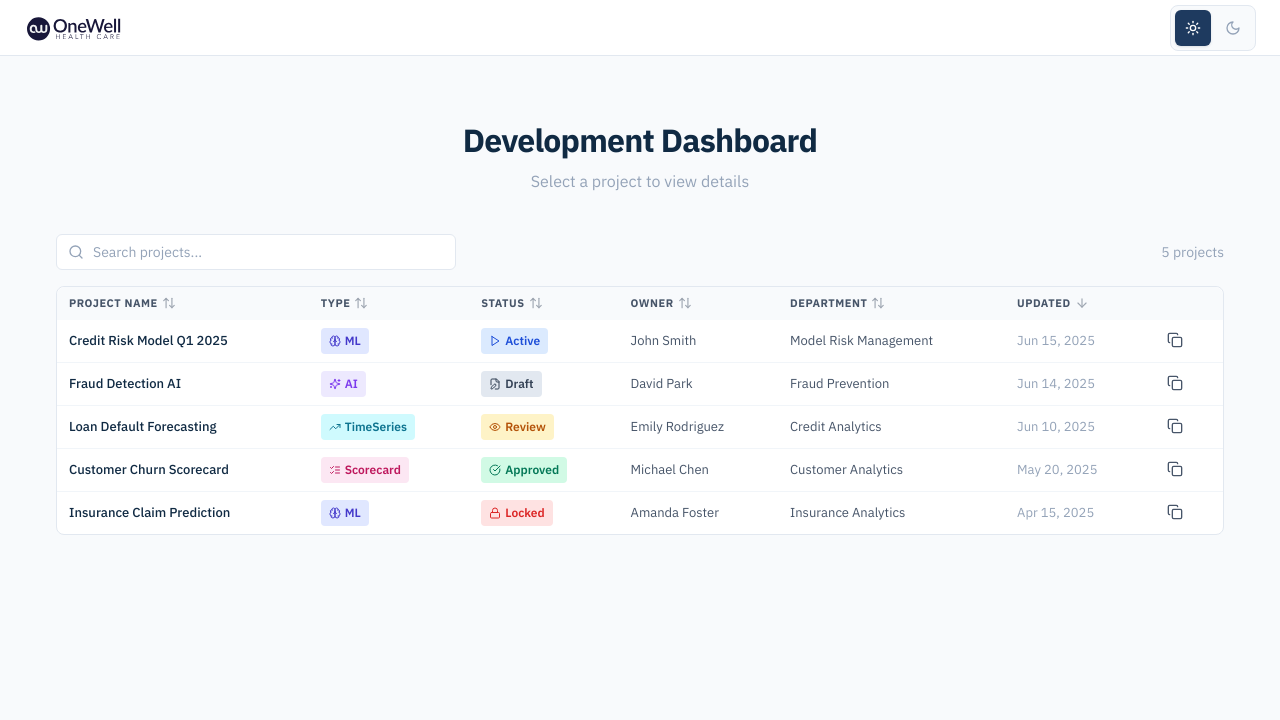
Scenario: Project Selector › Search Functionality › should show empty state when no results match
The width and height of the screenshot is (1280, 720).
In the field with placeholder "Search projects...": point(256, 252) [56,234,456,270], type "xyznonexistent123"
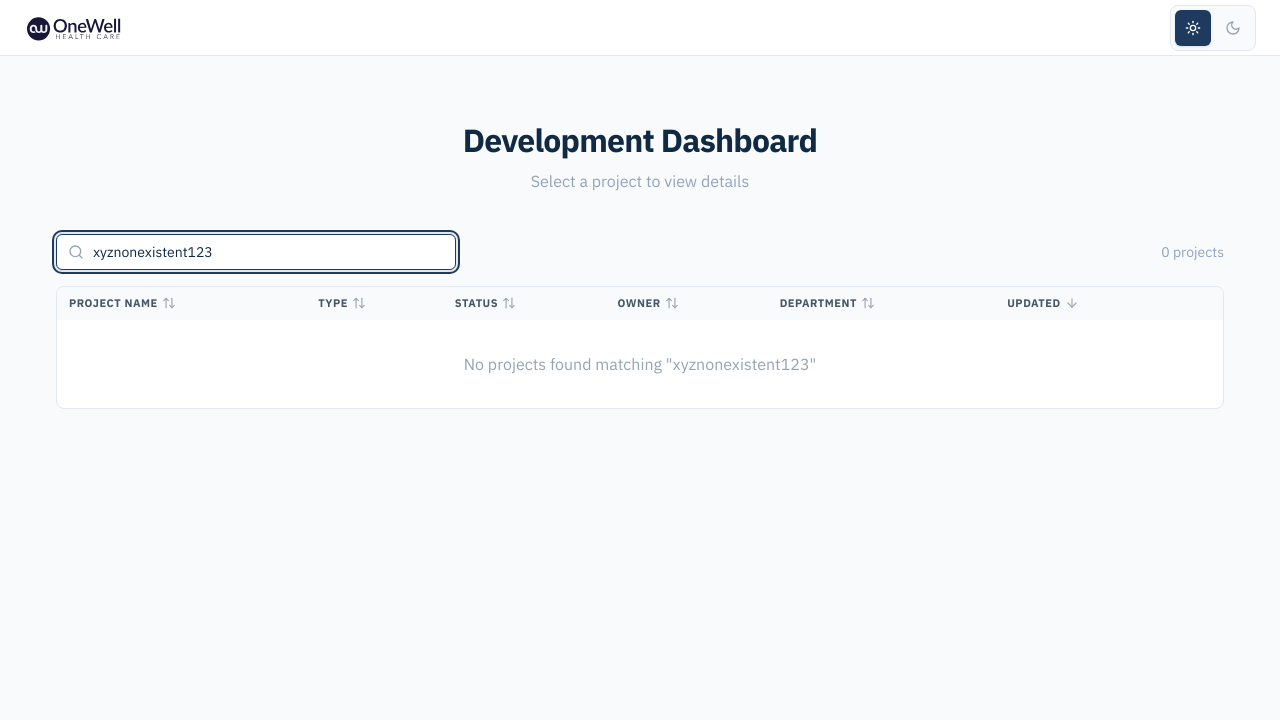
Now the text "No projects found matching \"xyznonexistent123\"" is shown, box [464,354,816,374]
